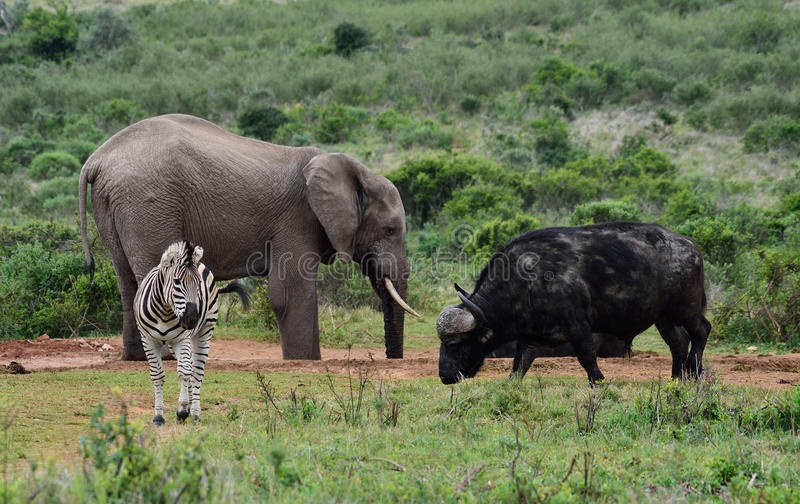buffalo: (433, 223, 715, 386)
elephant: (77, 110, 425, 367)
zebra: (129, 239, 248, 423)
